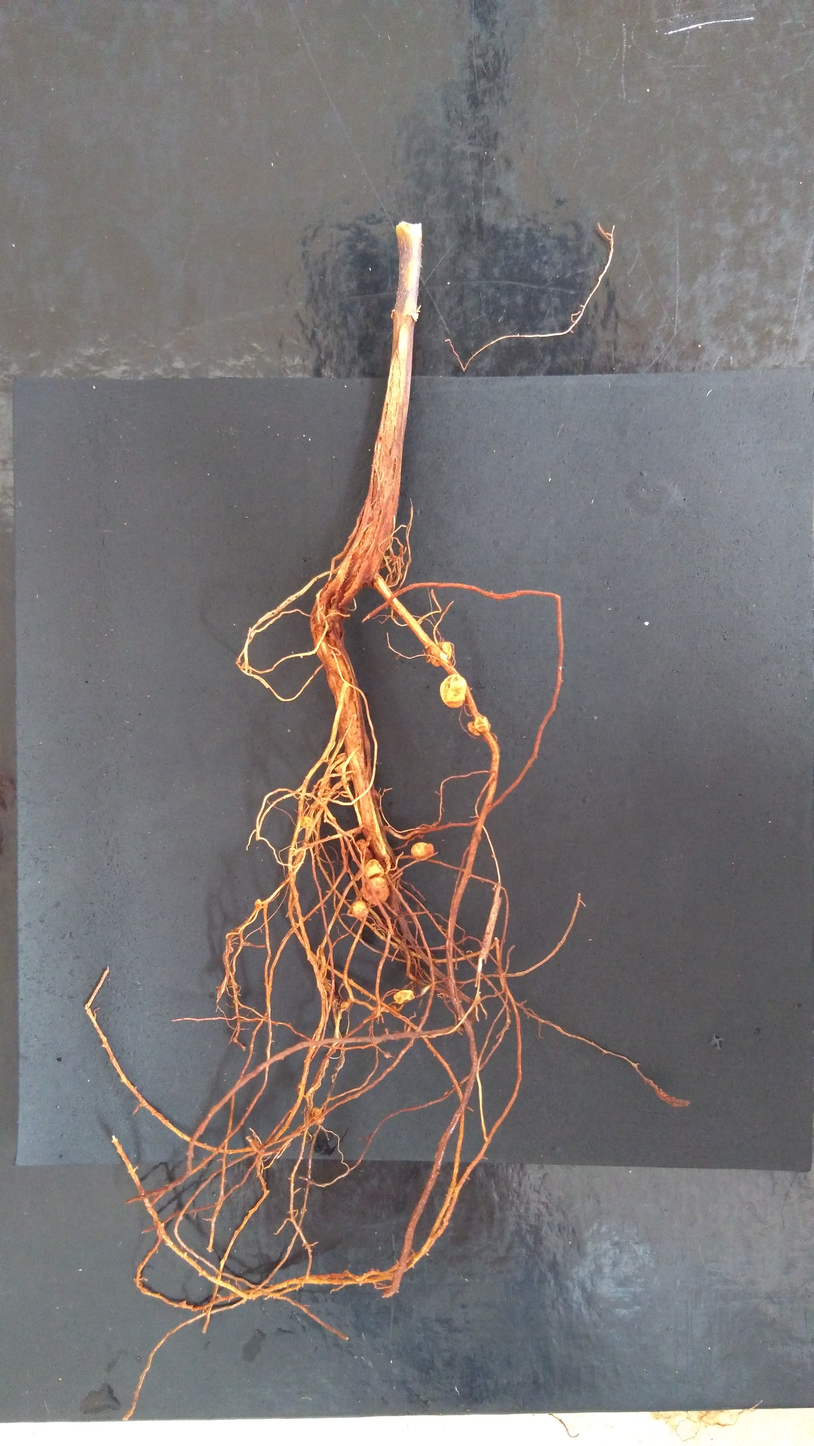nodule: (439, 673, 467, 709), (362, 876, 389, 905), (361, 859, 385, 884), (429, 642, 453, 666), (330, 752, 352, 777), (411, 842, 435, 859), (392, 989, 416, 1005), (352, 900, 369, 919), (473, 715, 491, 732), (310, 1106, 325, 1126), (298, 815, 315, 829), (355, 839, 370, 852), (358, 847, 373, 860), (468, 721, 480, 736), (254, 898, 262, 908), (340, 1001, 350, 1009)
